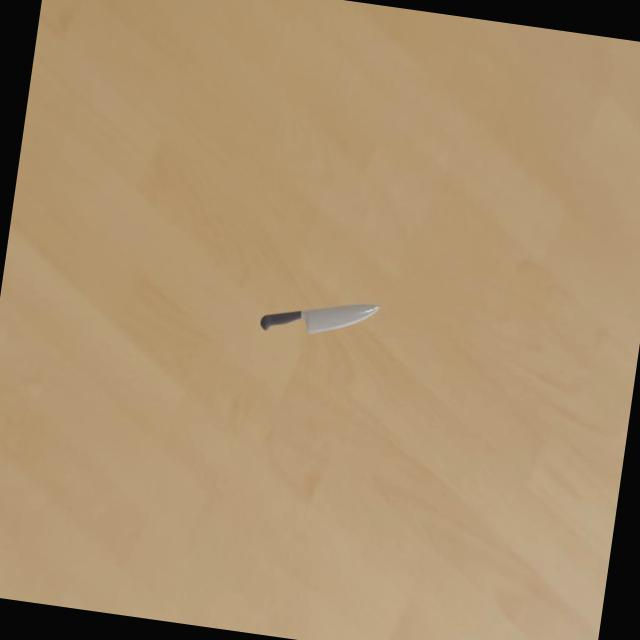knife: (260, 306, 302, 336)
